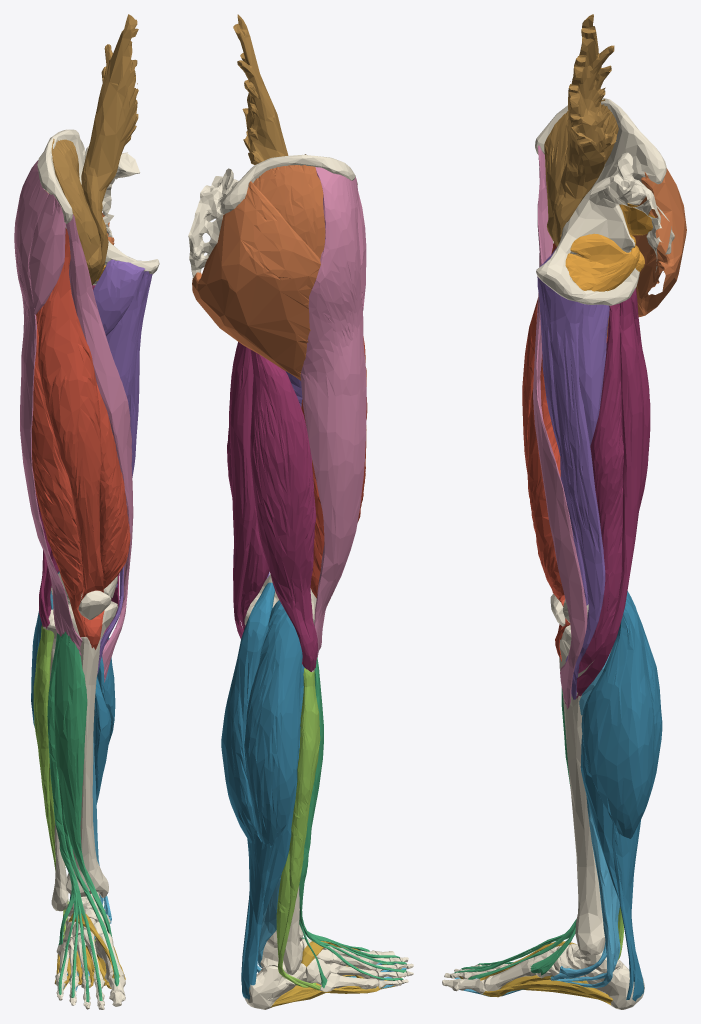
The model's file is lowerlimb.glb.
3 renders of one model, left to right at view 1: azimuth 30°, elevation 25°; view 2: azimuth 150°, elevation 25°; view 3: azimuth 270°, elevation 25°, orthographic. The views are drawn at different scales.
Visible parts, largest first — view 1: quads, sartorius, bones, shin, iliopsoas, adductors, fibular, calf, footm, hamstrings, deepcalf; view 2: hamstrings, sartorius, calf, glutes, bones, fibular, iliopsoas, shin, footm, quads, deepcalf; view 3: bones, calf, hamstrings, adductors, iliopsoas, sartorius, quads, glutes, deepglute, deepcalf, footm, shin.
Part boxes in pixels (box(x1,y1,x2,y2)): quads: box(32, 228, 130, 649); sartorius: box(14, 160, 133, 682); bones: box(37, 129, 159, 1009); shin: box(47, 631, 119, 1002); iliopsoas: box(51, 14, 138, 285); adductors: box(93, 259, 152, 674); fibular: box(33, 624, 95, 942); calf: box(31, 571, 115, 900); footm: box(54, 913, 125, 1000); hamstrings: box(35, 285, 119, 641); deepcalf: box(50, 590, 111, 990); hamstrings: box(227, 342, 317, 671); sartorius: box(300, 167, 366, 659); calf: box(221, 582, 304, 999); glutes: box(192, 165, 325, 380); bones: box(188, 154, 413, 1009); fibular: box(276, 668, 320, 990); iliopsoas: box(233, 14, 306, 164); shin: box(299, 657, 406, 988); footm: box(270, 941, 401, 1007); quads: box(301, 336, 367, 605); deepcalf: box(257, 873, 406, 988); bones: box(442, 97, 674, 1009); calf: box(580, 591, 662, 1001); hamstrings: box(576, 288, 650, 698); adductors: box(537, 246, 609, 699); iliopsoas: box(544, 14, 618, 257); sartorius: box(533, 145, 587, 709); quads: box(522, 242, 607, 661); glutes: box(607, 168, 686, 336); deepglute: box(565, 203, 654, 291); deepcalf: box(455, 653, 620, 996); footm: box(459, 941, 612, 1005); shin: box(454, 688, 576, 979).
Size of the model in its own units: 0.1725 by 1.17 by 0.256.
